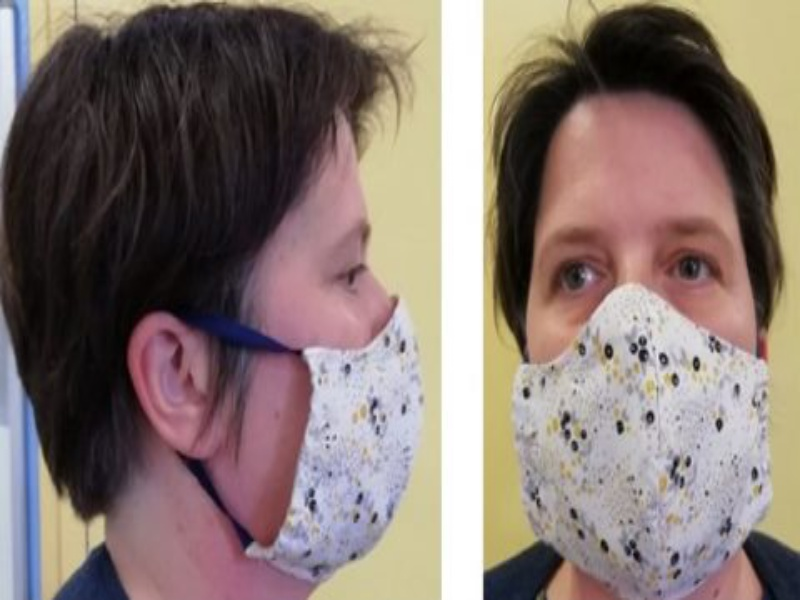ManaoArotava: (494, 78, 794, 594), (167, 54, 430, 589)
